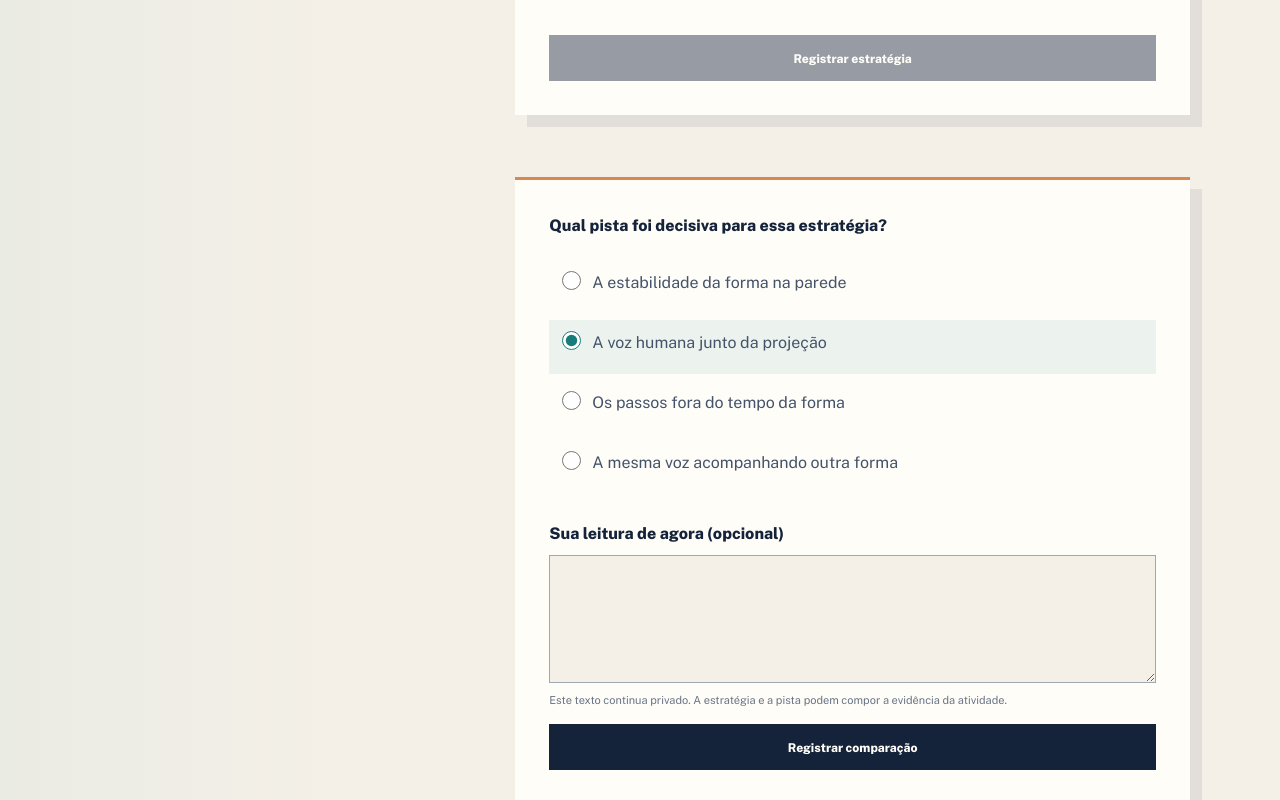
Test: revokes the revision Continue gate after clue change then revert until comparison is recorded again
(page scrolled)
Click the radio button labelled "Os passos fora do tempo da forma" at [572, 401], box [562,391,581,410]
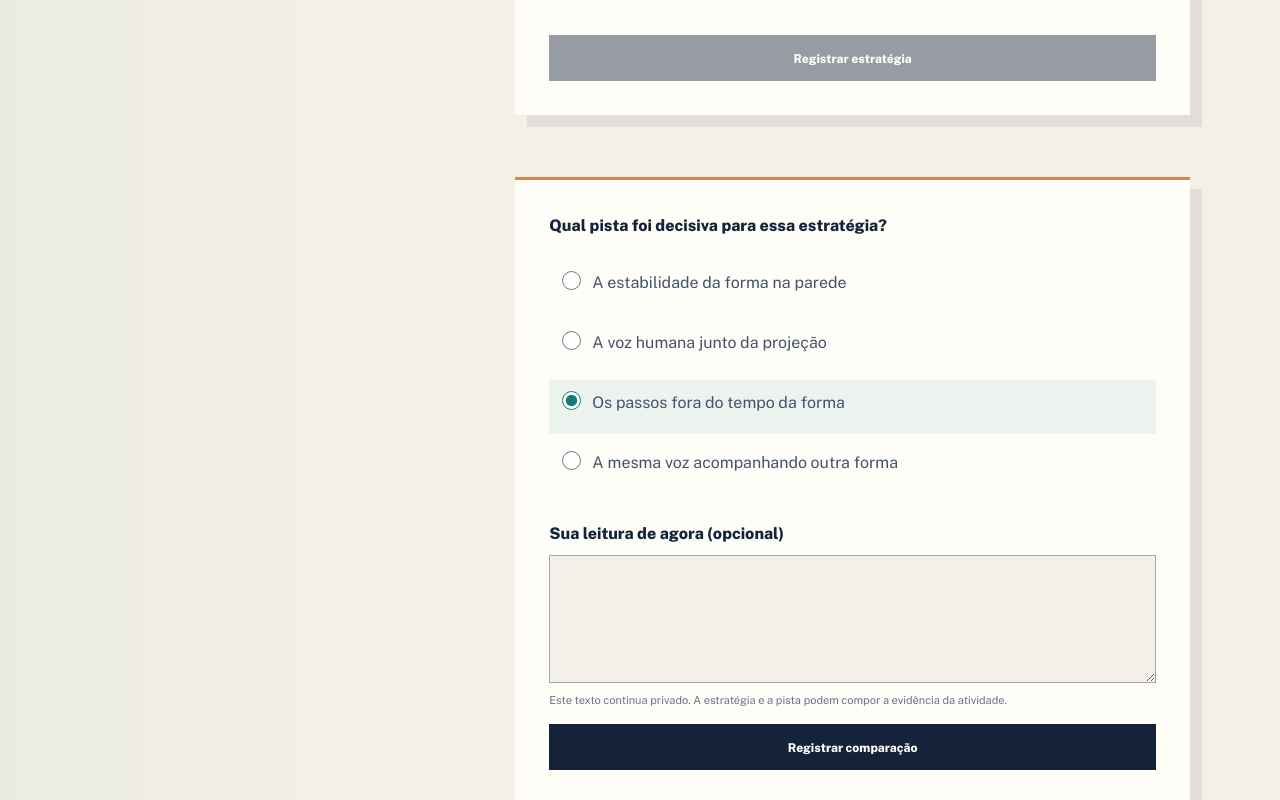
Click the radio button labelled "A voz humana junto da projeção" at [572, 341], box [562,331,581,350]
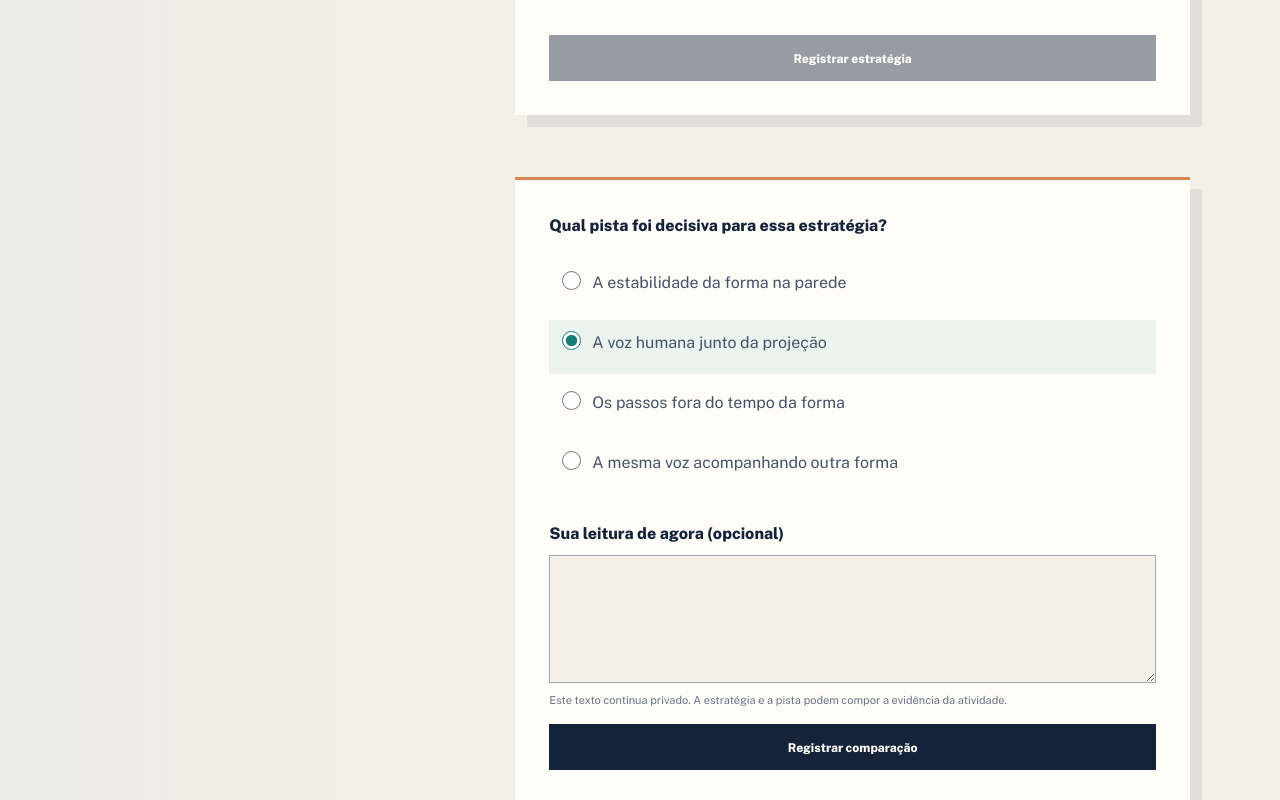
Check: the button "Testar em outro tipo de sombra" is not shown
Click the button "Registrar comparação" at [853, 747], box [549,724,1156,770]
(page scrolled)
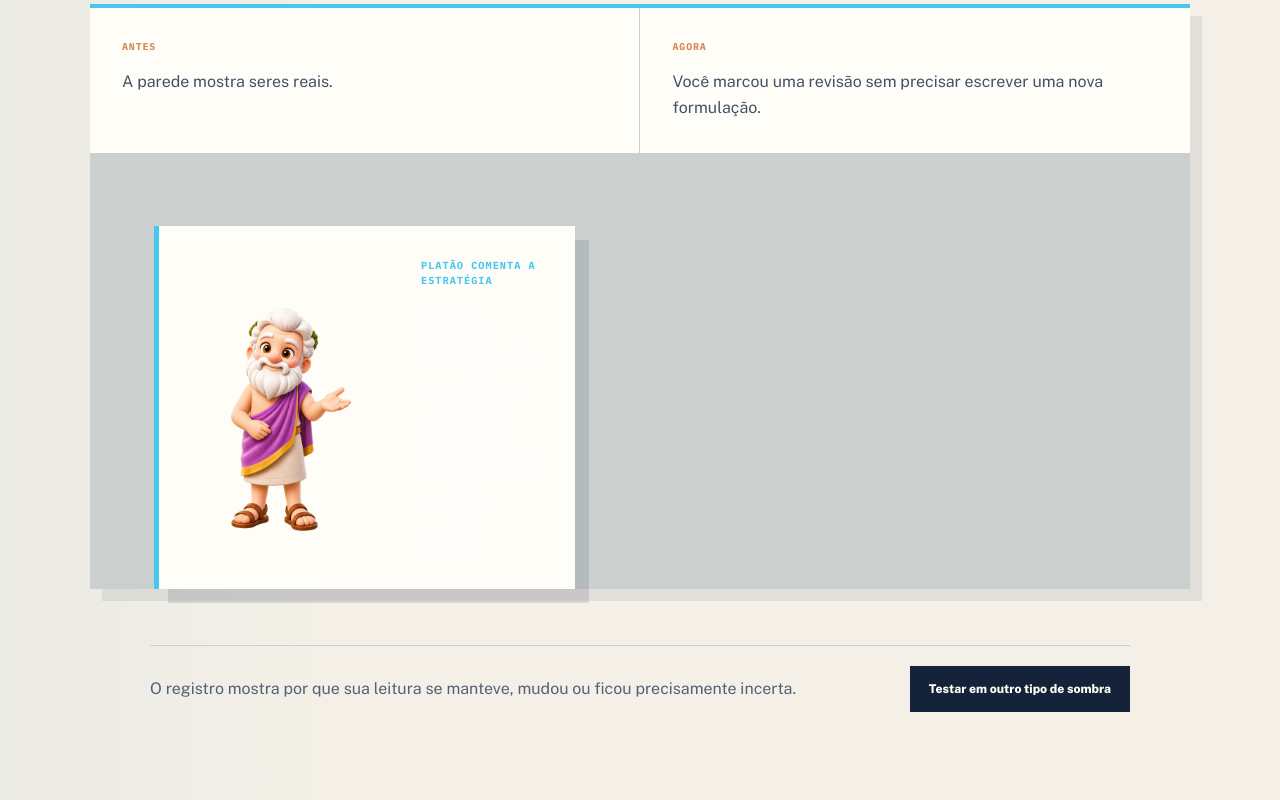
Check: the button "Testar em outro tipo de sombra" is shown, box [910,666,1130,712]
